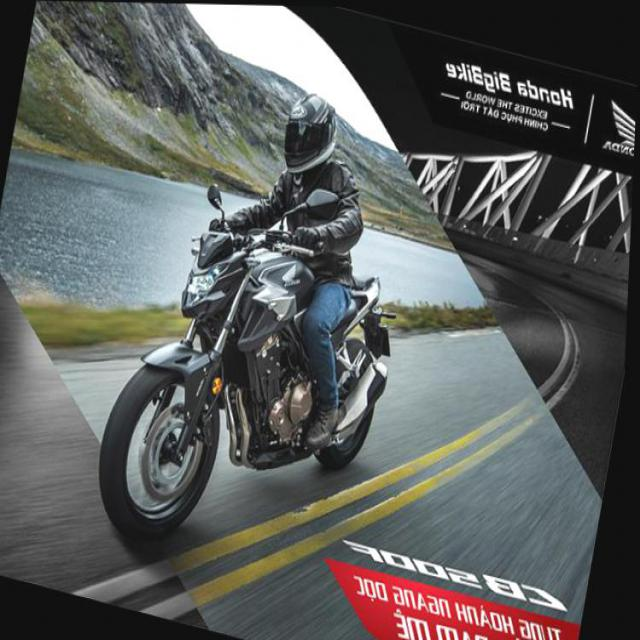CB500F: (89, 165, 413, 586)
